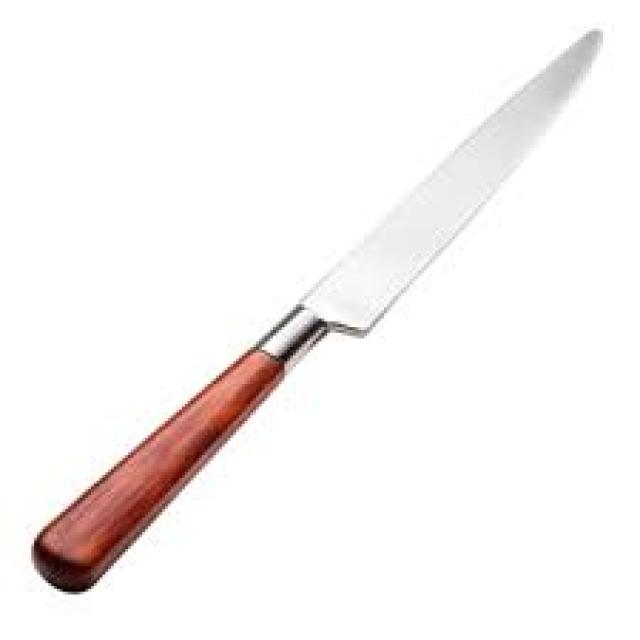Knife: (28, 26, 603, 592)
